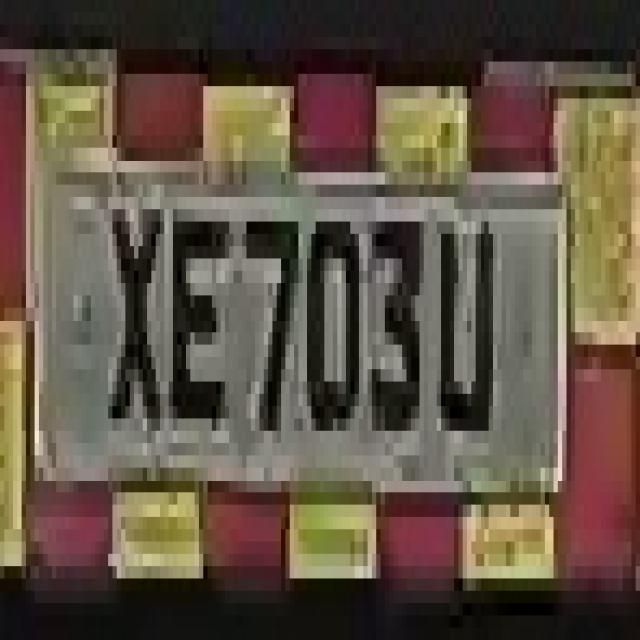0: (294, 184, 368, 456)
3: (354, 185, 432, 443)
7: (234, 172, 298, 468)
E: (164, 172, 225, 431)
U: (424, 172, 502, 456)
X: (91, 172, 160, 394)
